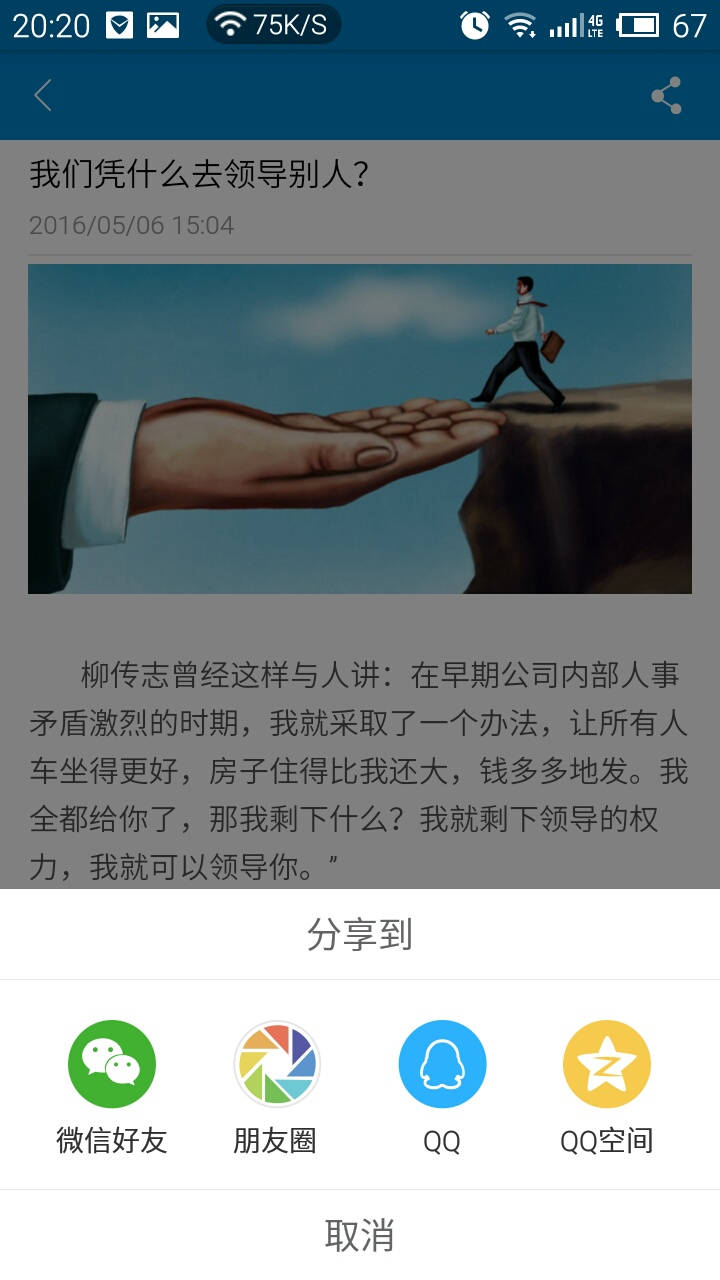imgbutton: (60, 1010, 163, 1117)
